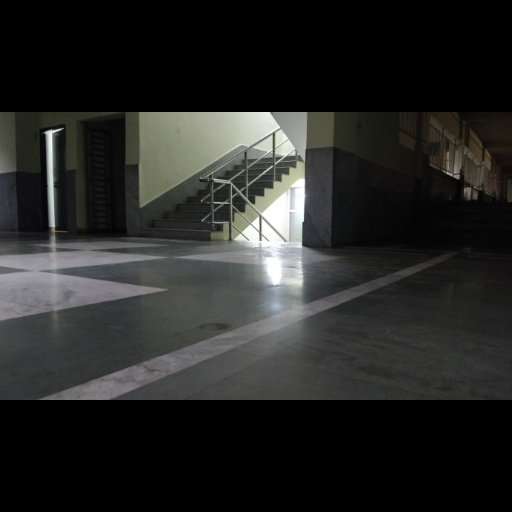Stairs: (141, 148, 288, 240)
